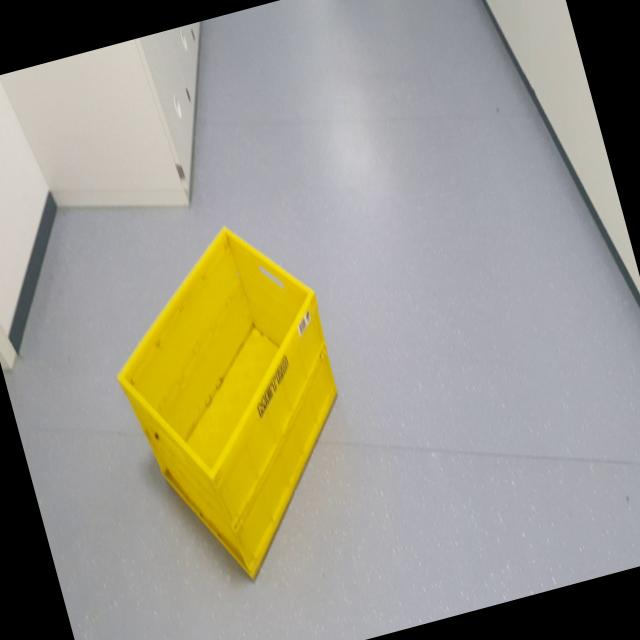box: (79, 202, 394, 618)
